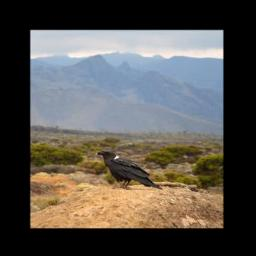Crow: (95, 149, 165, 191)
